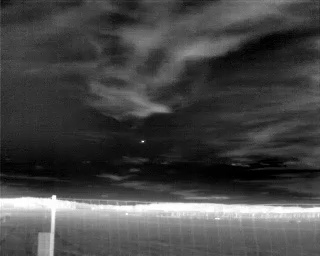AIRPLANE: (139, 138, 146, 144)
